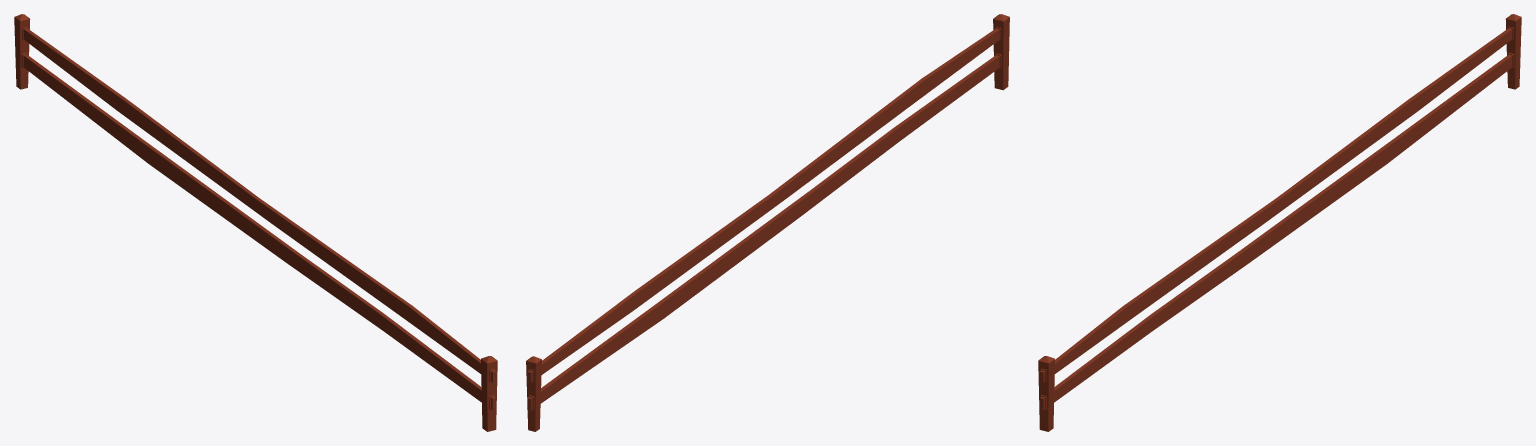
Rendered from Fence25.fbx.
3 renders of one model, left to right at view 1: azimuth 30°, elevation 25°; view 2: azimuth 150°, elevation 25°; view 3: azimuth 330°, elevation 25°, orthographic.
Parts seen in each view (by area): view 1: Fence25; view 2: Fence25; view 3: Fence25.
Part boxes in pixels (left/top/right/bottom): Fence25: left=14, top=14, right=497, bottom=431; Fence25: left=526, top=14, right=1009, bottom=431; Fence25: left=1038, top=14, right=1521, bottom=431.
Size of the model in its own units: 33.4 by 214 by 2528.
